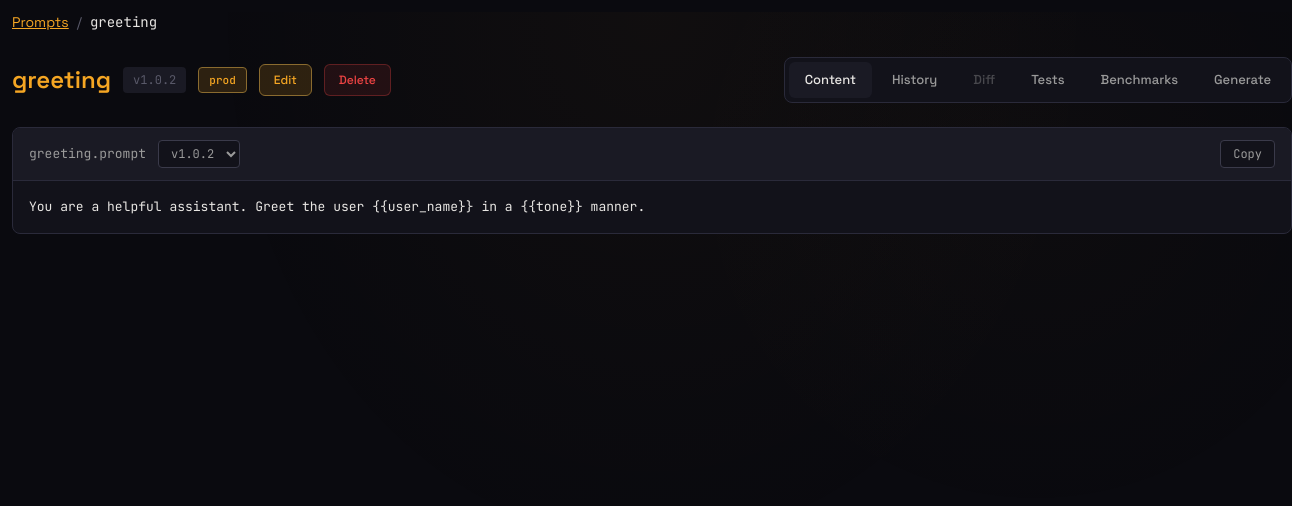
Test: PromptPage › switches to history view when tab clicked
The image size is (1292, 506).
Click the button "History" at [915, 80], box [876,62,953,98]
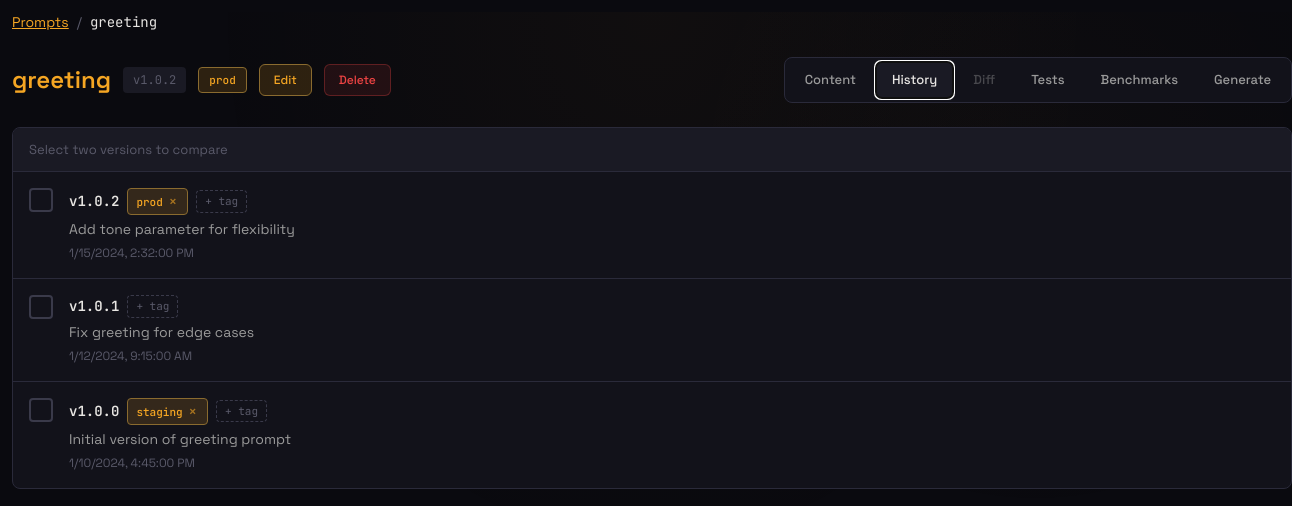
Result: the text "Select two versions to compare" is shown at [13,128,1291,172]
Result: the text "v1.0.1" is shown at [69,296,119,317]
